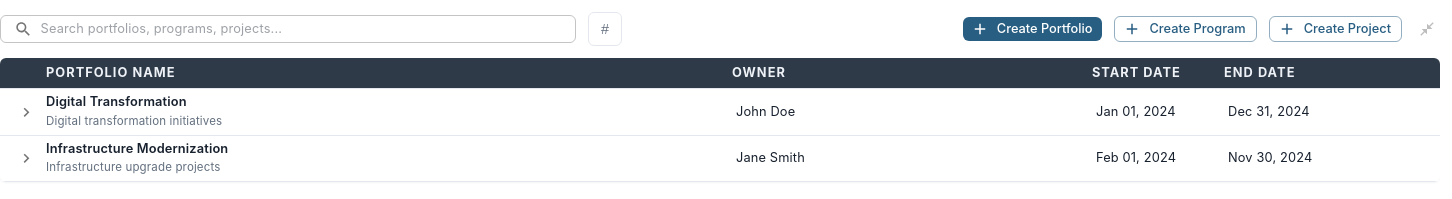
Test case: PortfoliosListPage › should filter portfolios by search term
The width and height of the screenshot is (1452, 199).
Expected: the text "Digital Transformation" is shown, [46,94,187,109]
Expected: the text "Infrastructure Modernization" is shown, [46,141,228,156]
Step 1. Type "Digital" into the field with placeholder "Search portfolios, programs, projects..." → (308, 29), box [41,15,576,43]
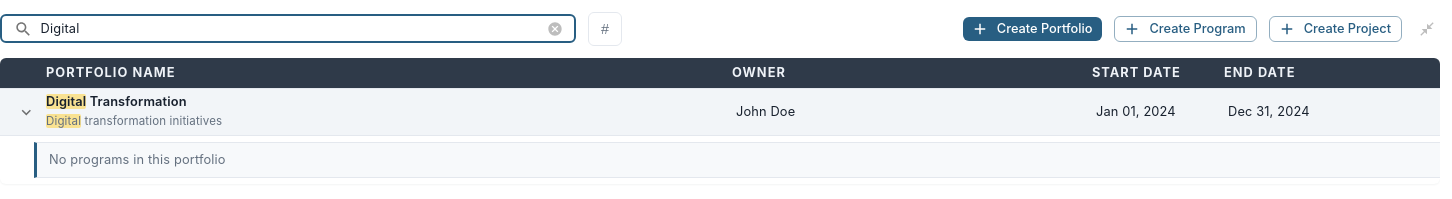
Expected: the text "Digital Transformation" is shown, [46,94,187,109]
Expected: the text "Infrastructure Modernization" is gone
